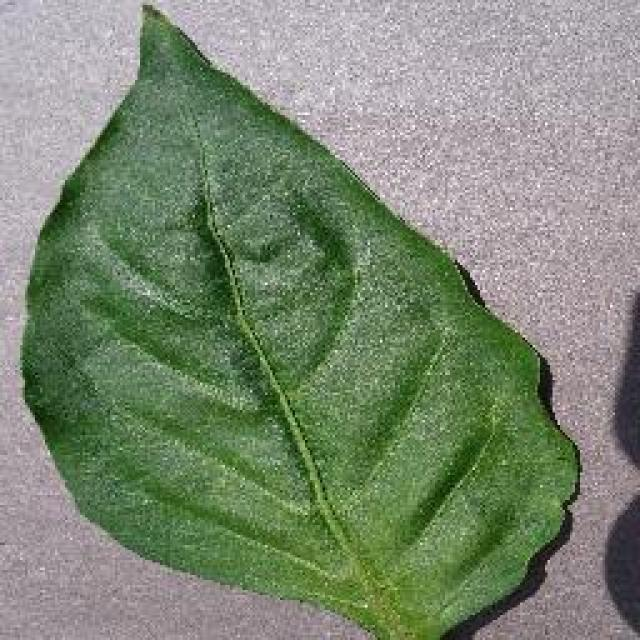Chilli_Healthy: (18, 0, 582, 638)
